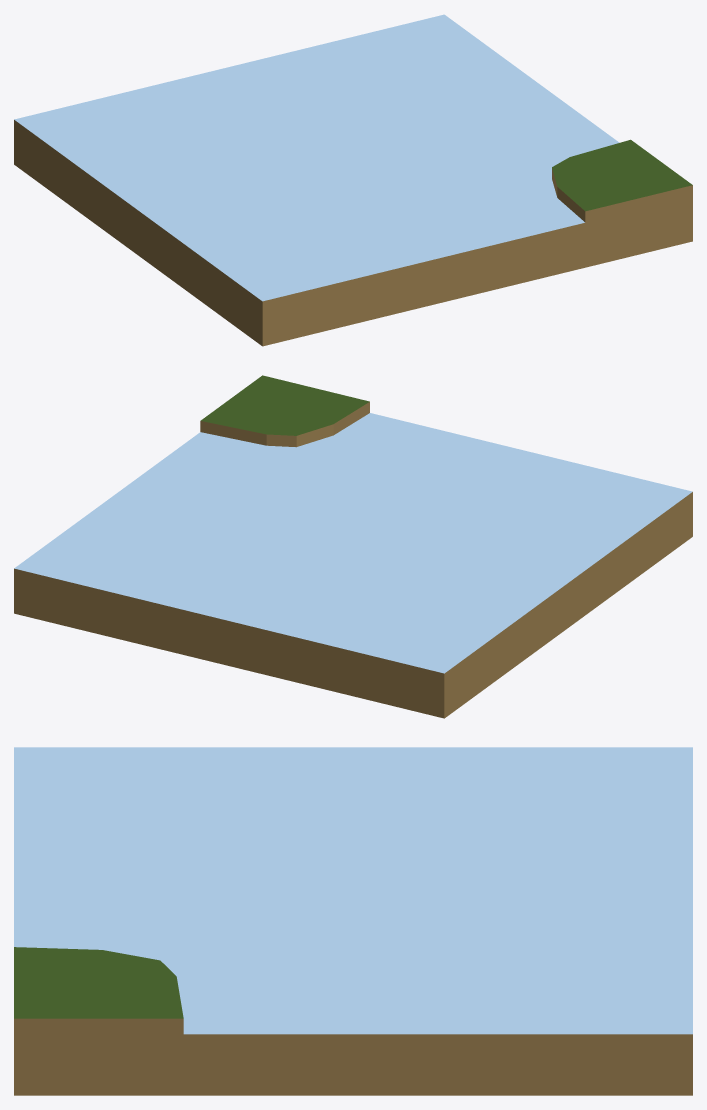
Rendered from Terrain_Tile_Grass_Dirt_Water_Bank_Corner_06.fbx.
3 views of the same model, one above another, from view 1: azimuth 30°, elevation 25°; view 2: azimuth 150°, elevation 25°; view 3: azimuth 270°, elevation 25° (orthographic). The views are drawn at different scales.
Parts seen in each view (by area): view 1: Terrain_Tile_Grass_Dirt_Water_Bank_Corner_06; view 2: Terrain_Tile_Grass_Dirt_Water_Bank_Corner_06; view 3: Terrain_Tile_Grass_Dirt_Water_Bank_Corner_06.
Part boxes in pixels (x1=…): Terrain_Tile_Grass_Dirt_Water_Bank_Corner_06: x1=14, y1=14, x2=692, y2=346; Terrain_Tile_Grass_Dirt_Water_Bank_Corner_06: x1=14, y1=375, x2=692, y2=718; Terrain_Tile_Grass_Dirt_Water_Bank_Corner_06: x1=14, y1=747, x2=692, y2=1095.
Size of the model in its own units: 126 by 15.75 by 126.
